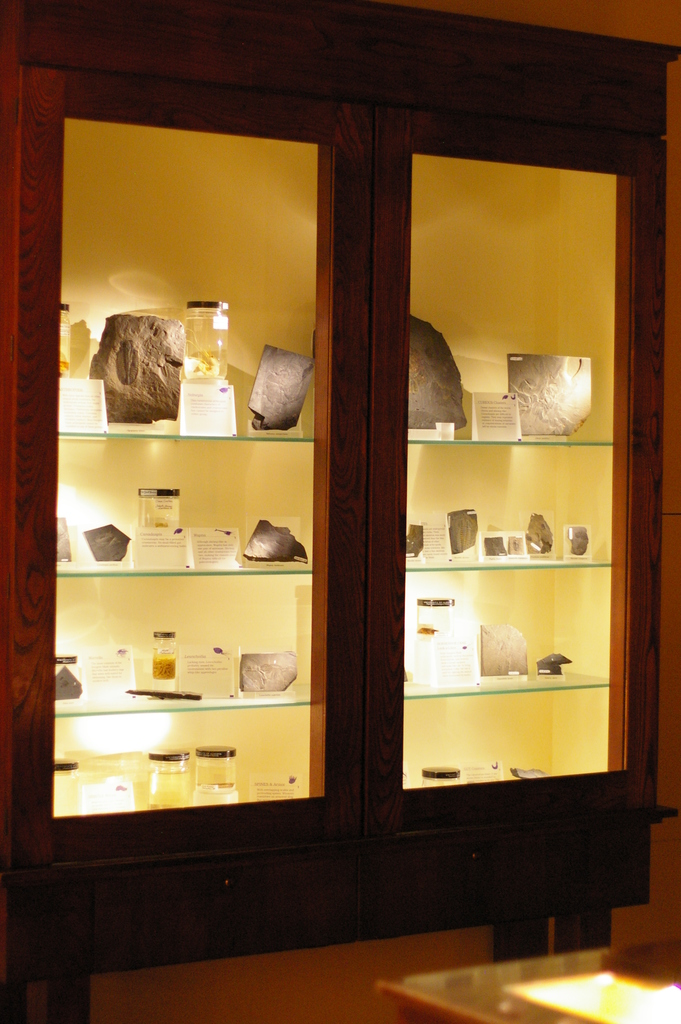cabinet door: (35, 68, 358, 835), (370, 111, 639, 812)
